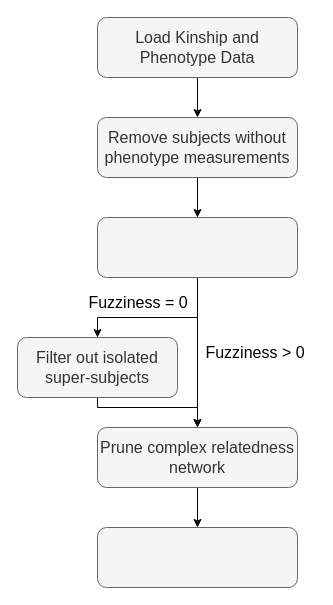
Some shapes in this 333 by 605 pixel diagram are drawn without their labels. The shapes that lost their labels are listed below. From the top down, each one's box as (x1, y1, x2, y2) in pixels, then its label:
(96, 216, 298, 278): Filter out related pairs
(96, 526, 298, 588): Work up
